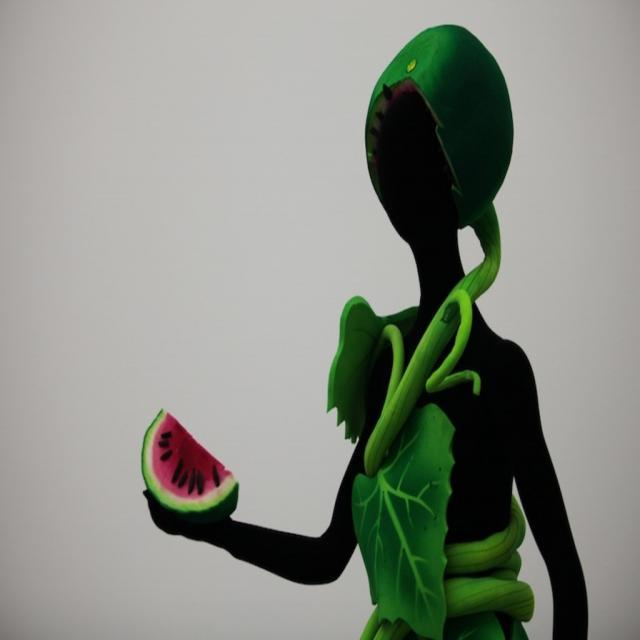Watermelon: (142, 410, 242, 519)
